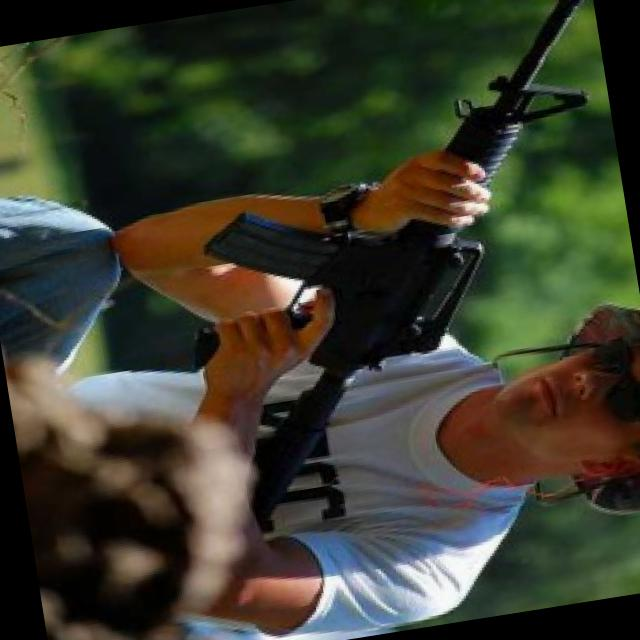long weapon: (138, 0, 595, 555)
